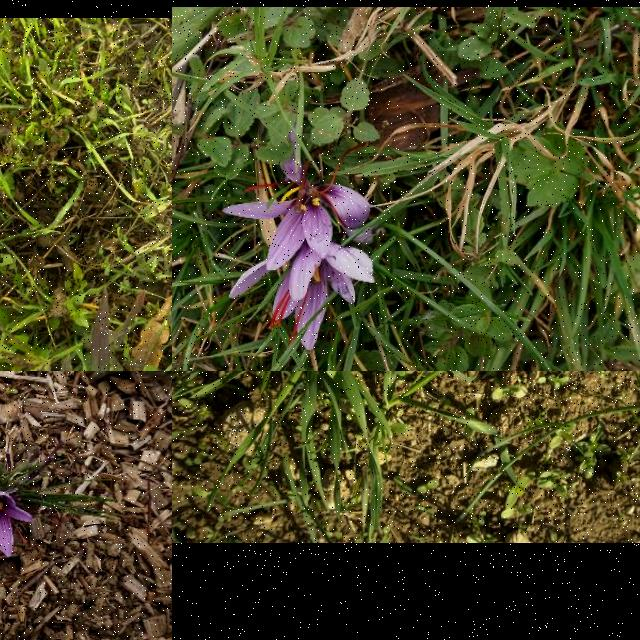flower: (0, 493, 34, 557)
overlap: (222, 130, 376, 350)
